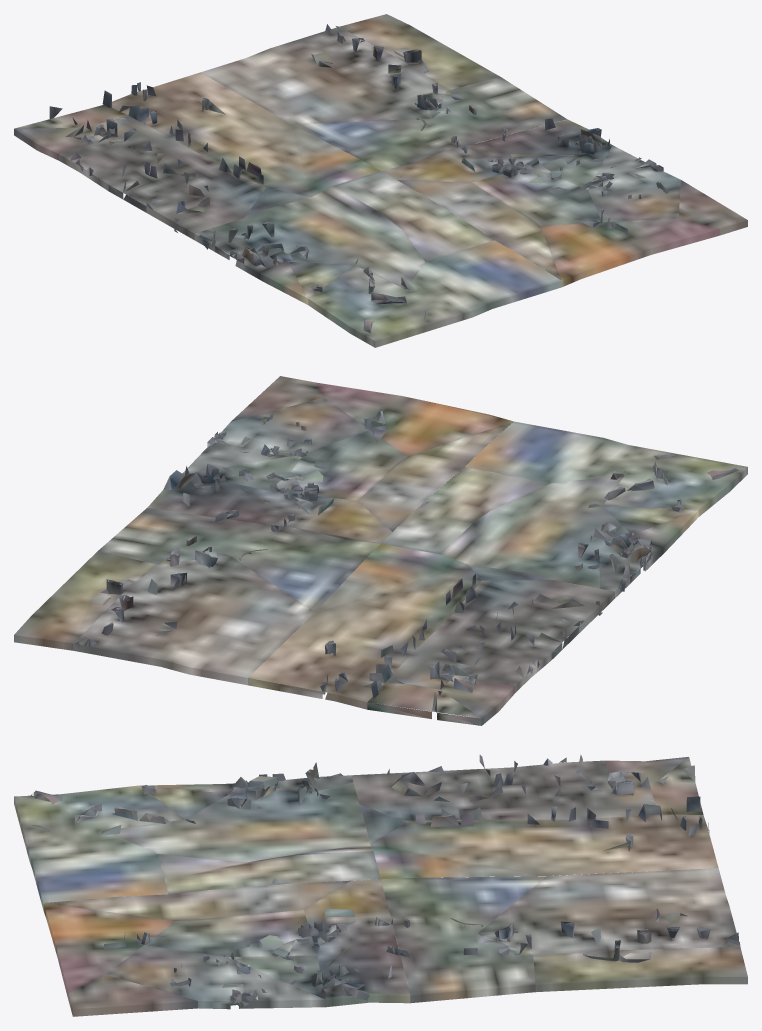
The picture shows the model from 3 angles, top to bottom: view 1: azimuth 30°, elevation 25°; view 2: azimuth 150°, elevation 25°; view 3: azimuth 270°, elevation 25°; orthographic projection. The views are drawn at different scales.
Parts seen in each view (by area): view 1: Mesh_0; view 2: Mesh_0; view 3: Mesh_0.
Part boxes in pixels (x1=…): Mesh_0: x1=14, y1=14, x2=747, y2=347; Mesh_0: x1=14, y1=376, x2=747, y2=725; Mesh_0: x1=14, y1=754, x2=747, y2=1016.
Bounding box in the file's own units: 2129 × 109 × 2636.
1 material, 1 textured.
